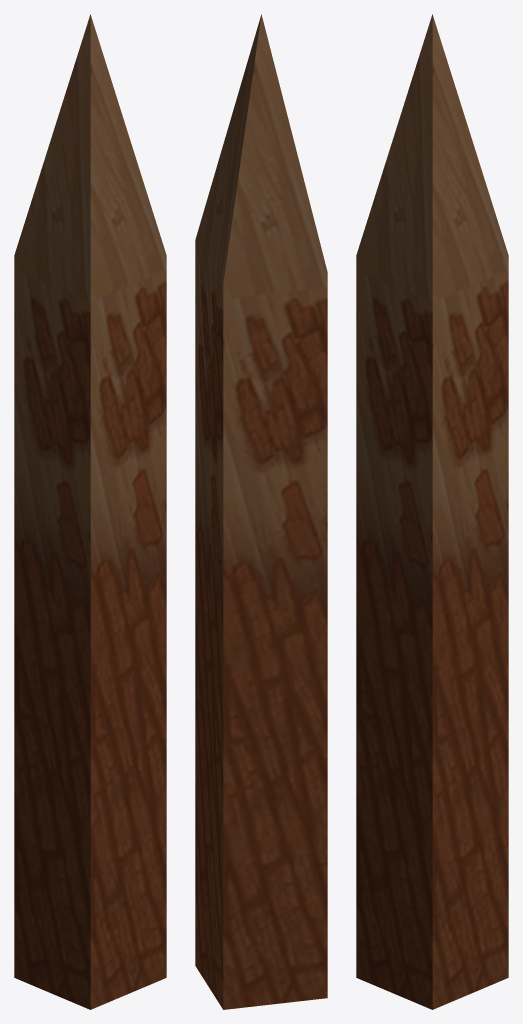
File: wood028.FBX
3 views of the same model, side by side, from view 1: azimuth 90°, elevation 25°; view 2: azimuth 150°, elevation 25°; view 3: azimuth 270°, elevation 25° (orthographic).
Visible parts, largest first — view 1: Box005; view 2: Box005; view 3: Box005.
Part boxes in pixels (x1,y1,x2,y2): Box005: [14, 14, 166, 1009]; Box005: [195, 14, 327, 1009]; Box005: [356, 14, 508, 1009].
Size of the model in its own units: 15.91 by 111 by 15.91.
